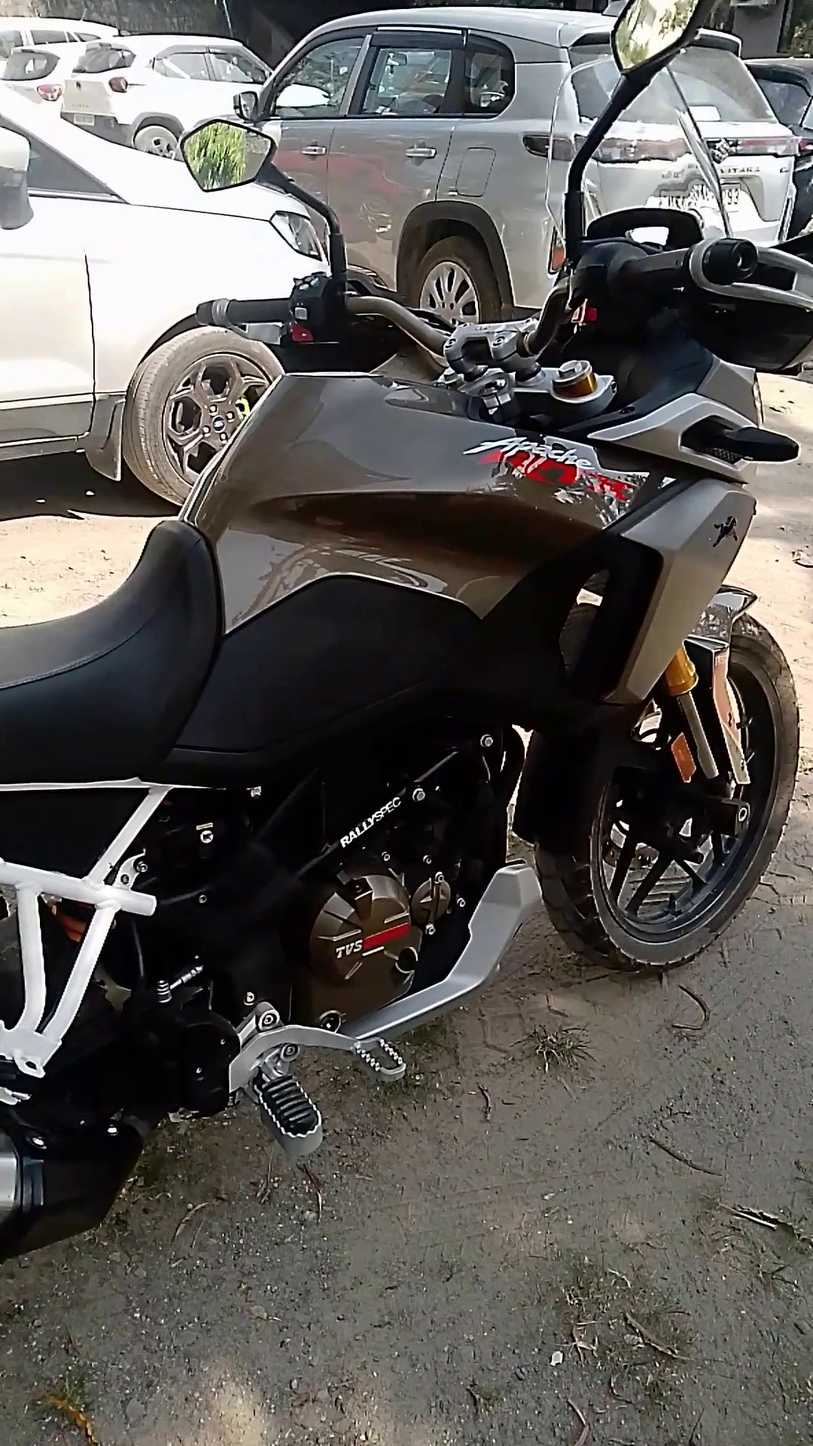engine: (282, 776, 486, 1036)
